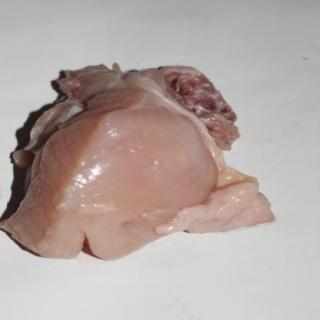Ayam: (7, 67, 276, 261)
